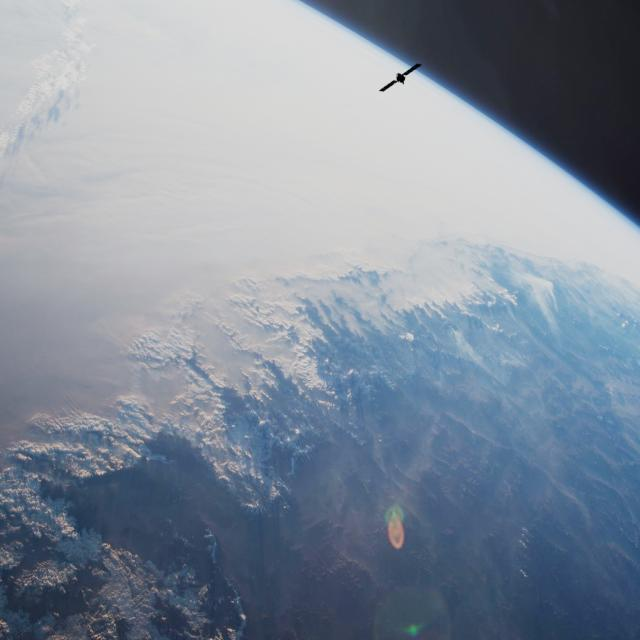satellite: (376, 58, 425, 100)
